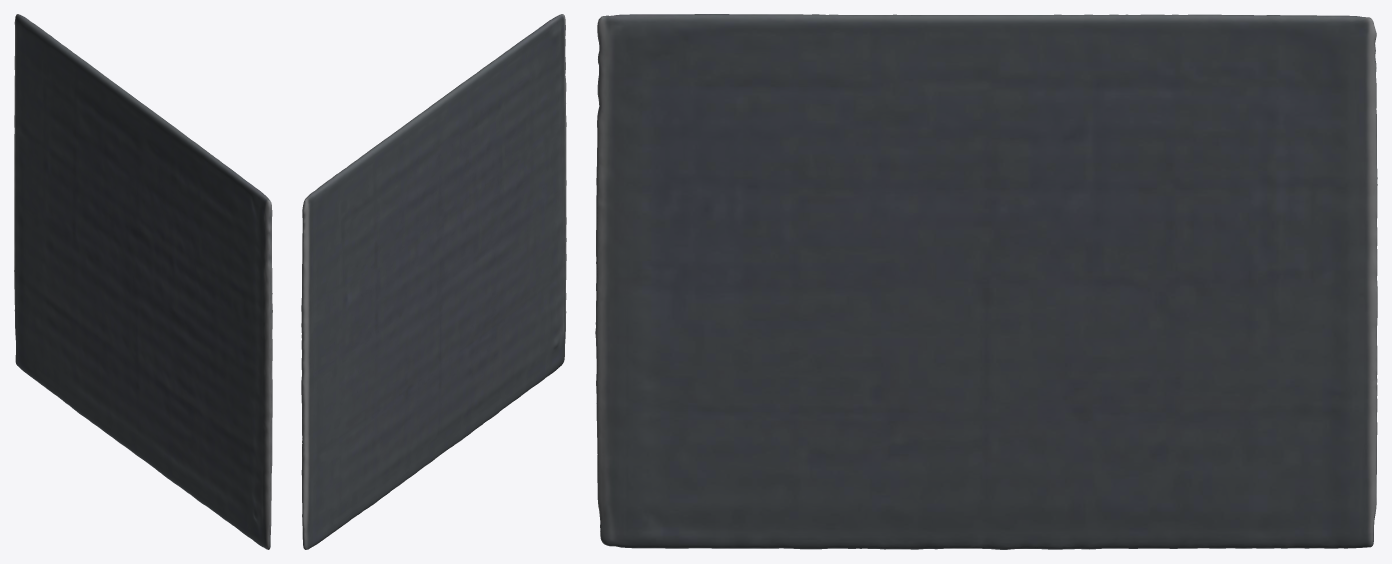
The model's file is 2ffaf64f7c36_gray_wall__3d_asset.fbx.
The picture shows the model from 3 angles, left to right: view 1: azimuth 30°, elevation 25°; view 2: azimuth 150°, elevation 25°; view 3: azimuth 270°, elevation 25°; orthographic projection. The views are drawn at different scales.
Visible parts, largest first — view 1: high_poly; view 2: high_poly; view 3: high_poly.
Boxes of the visible parts, x1=… form: high_poly: x1=14, y1=14, x2=272, y2=549; high_poly: x1=301, y1=14, x2=566, y2=549; high_poly: x1=595, y1=14, x2=1377, y2=549.
Size of the model in its own units: 3.13 by 75.44 by 100.
